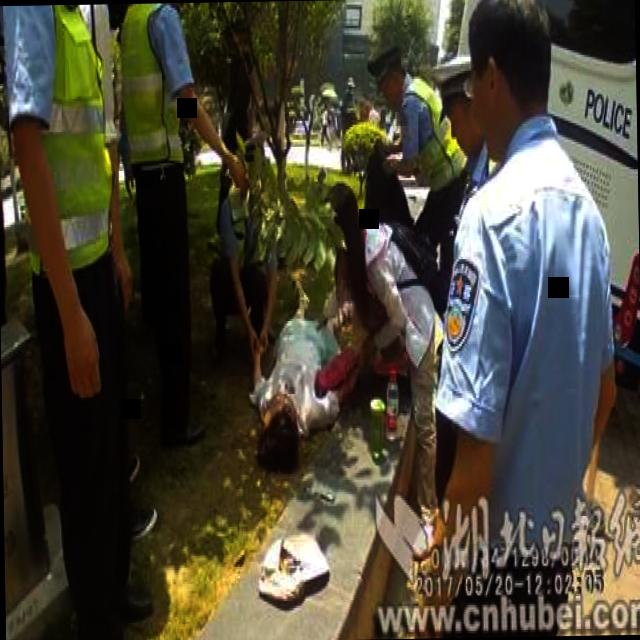Fall-Detected: (241, 260, 360, 474)
